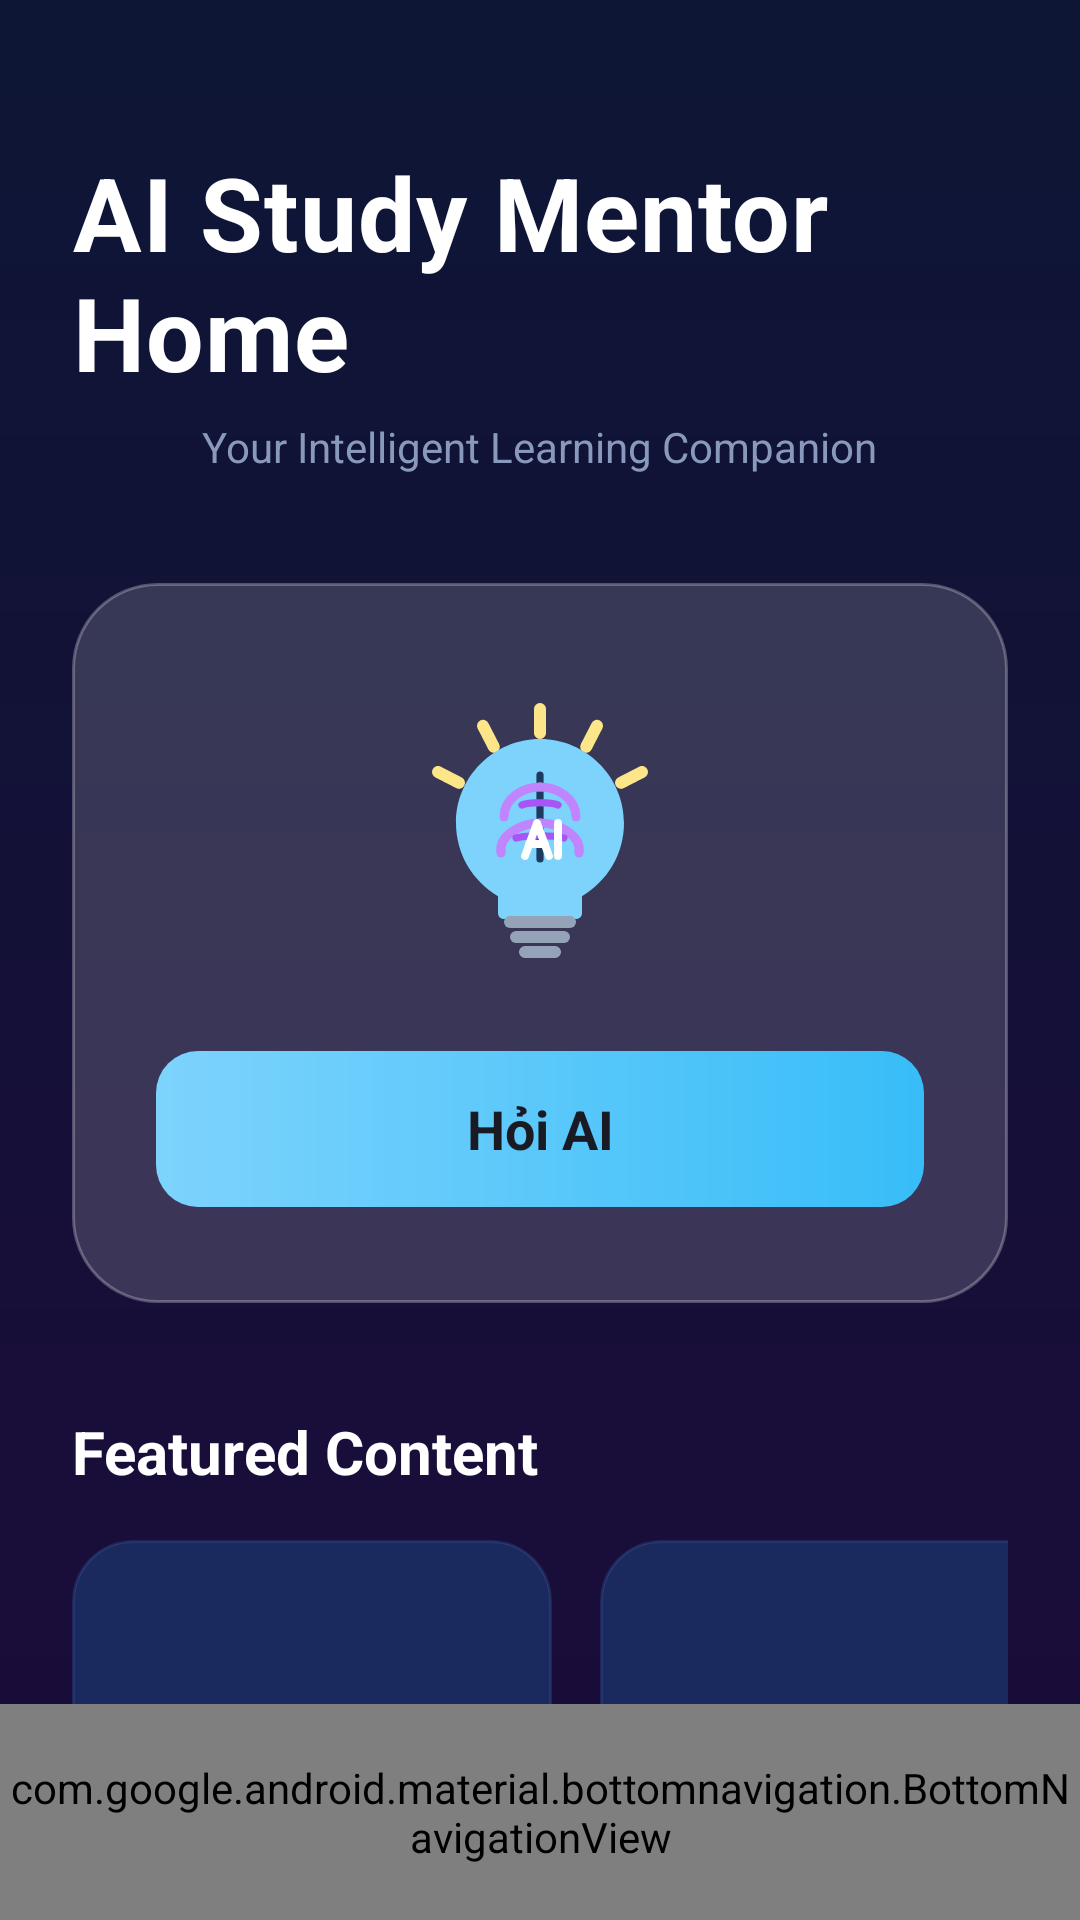

Named icons in this screenshot (1080 x 1920) and their bounding boxes, detection(x1, y1, x2, y2):
AI Bulb Icon: detection(432, 703, 648, 958)
